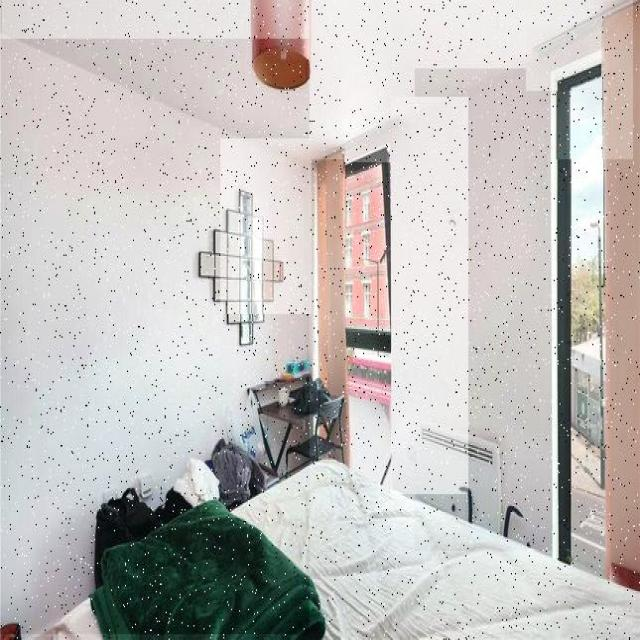Wall: (0, 40, 310, 634), (2, 0, 633, 159), (415, 69, 555, 551), (391, 97, 468, 494), (221, 139, 312, 314), (526, 28, 601, 91), (345, 124, 412, 162)
